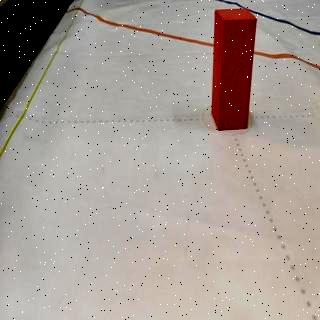redbox: (211, 7, 258, 131)
